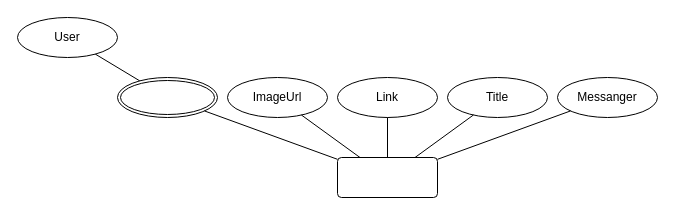
Image size: 675x215. Some labels were removed from this diagram. Here are the shapes that lost their labels. From the top down, the centre of each, then its label:
point 167,97: ReceiveTo
point 387,177: Notification
